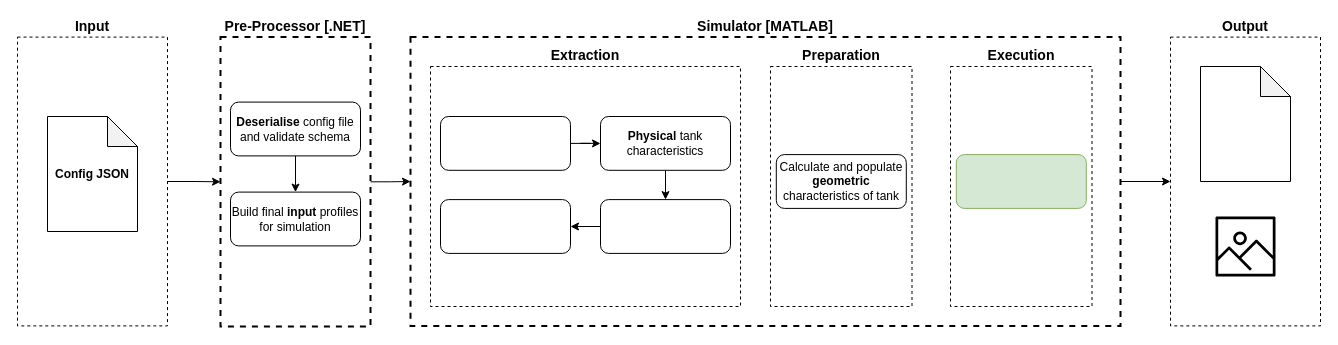
Some shapes in this 1338 by 345 pixel diagram are drawn without their labels. The shapes that lost their labels are listed below. From the top down, each one's centre as x and y in pixels, then its label:
At point (505, 143): "metadata of entry".
At point (1245, 124): "Results JSON".
At point (1020, 181): "Call Simulation model".
At point (505, 226): "simulation parameters".
At point (665, 226): "Event profiles".
At point (1245, 246): "Plots".
